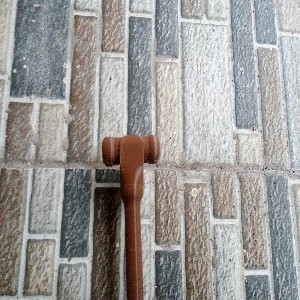palu: (101, 133, 161, 300)
